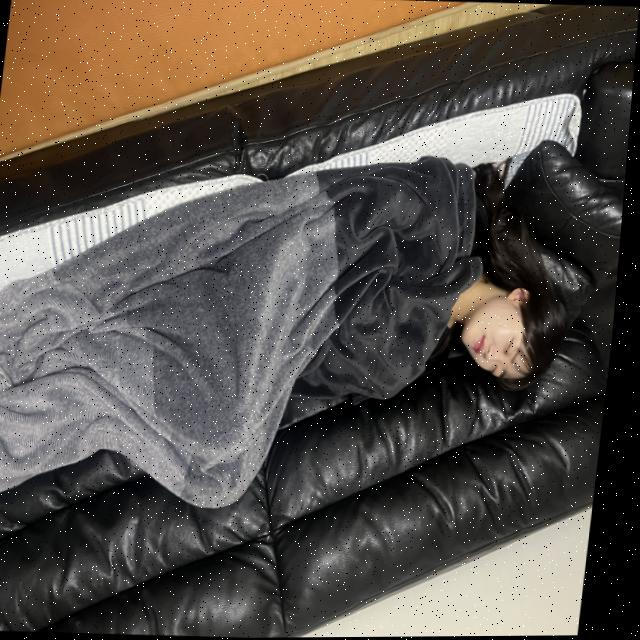sleeping-person: (0, 137, 600, 554)
